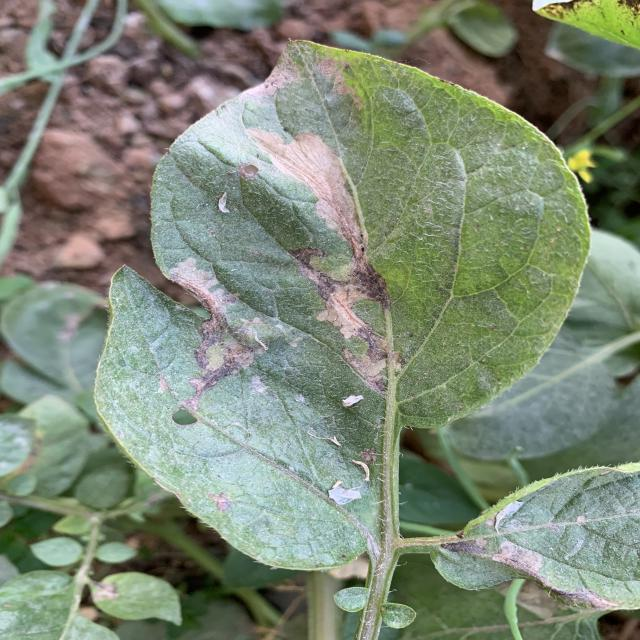lateblight: (248, 129, 390, 360), (168, 258, 298, 410), (492, 540, 547, 582)
